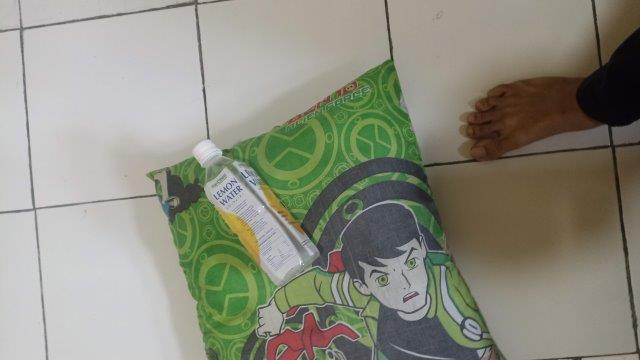botolplastik: (193, 139, 322, 287)
